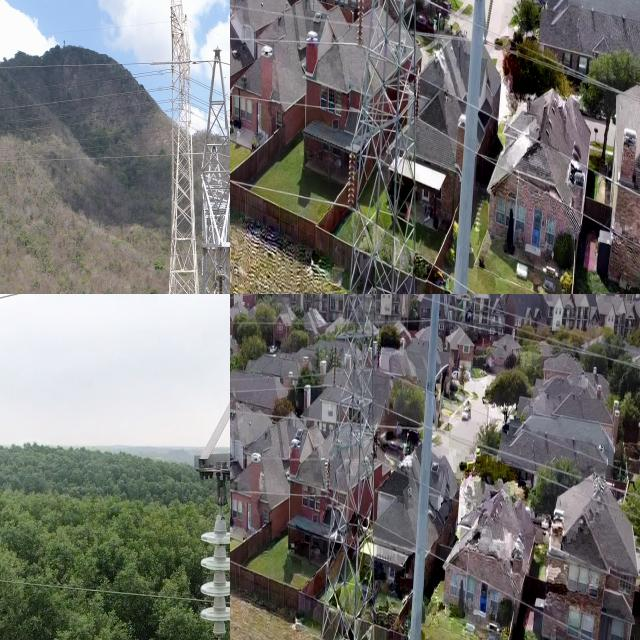杆塔: (140, 0, 223, 294), (312, 294, 380, 640), (343, 0, 422, 294), (177, 294, 230, 640), (198, 33, 230, 294)
正常电缆: (434, 69, 640, 211), (436, 116, 640, 258), (435, 0, 640, 117), (230, 168, 339, 226), (230, 77, 345, 125), (230, 20, 348, 65), (428, 252, 499, 294)
正常绝缘子: (192, 491, 230, 640), (346, 143, 358, 215), (328, 339, 341, 394), (412, 70, 424, 125), (354, 0, 366, 51), (324, 456, 333, 504), (415, 0, 428, 15)
绝缘子破损: (212, 623, 226, 640)
